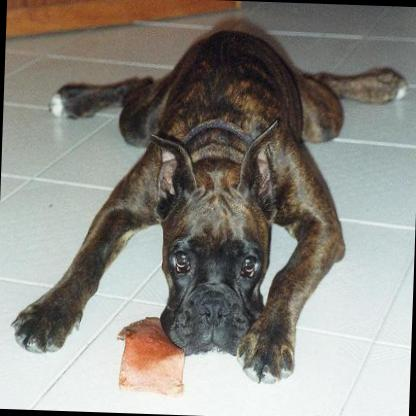boxer: (9, 7, 409, 386)
